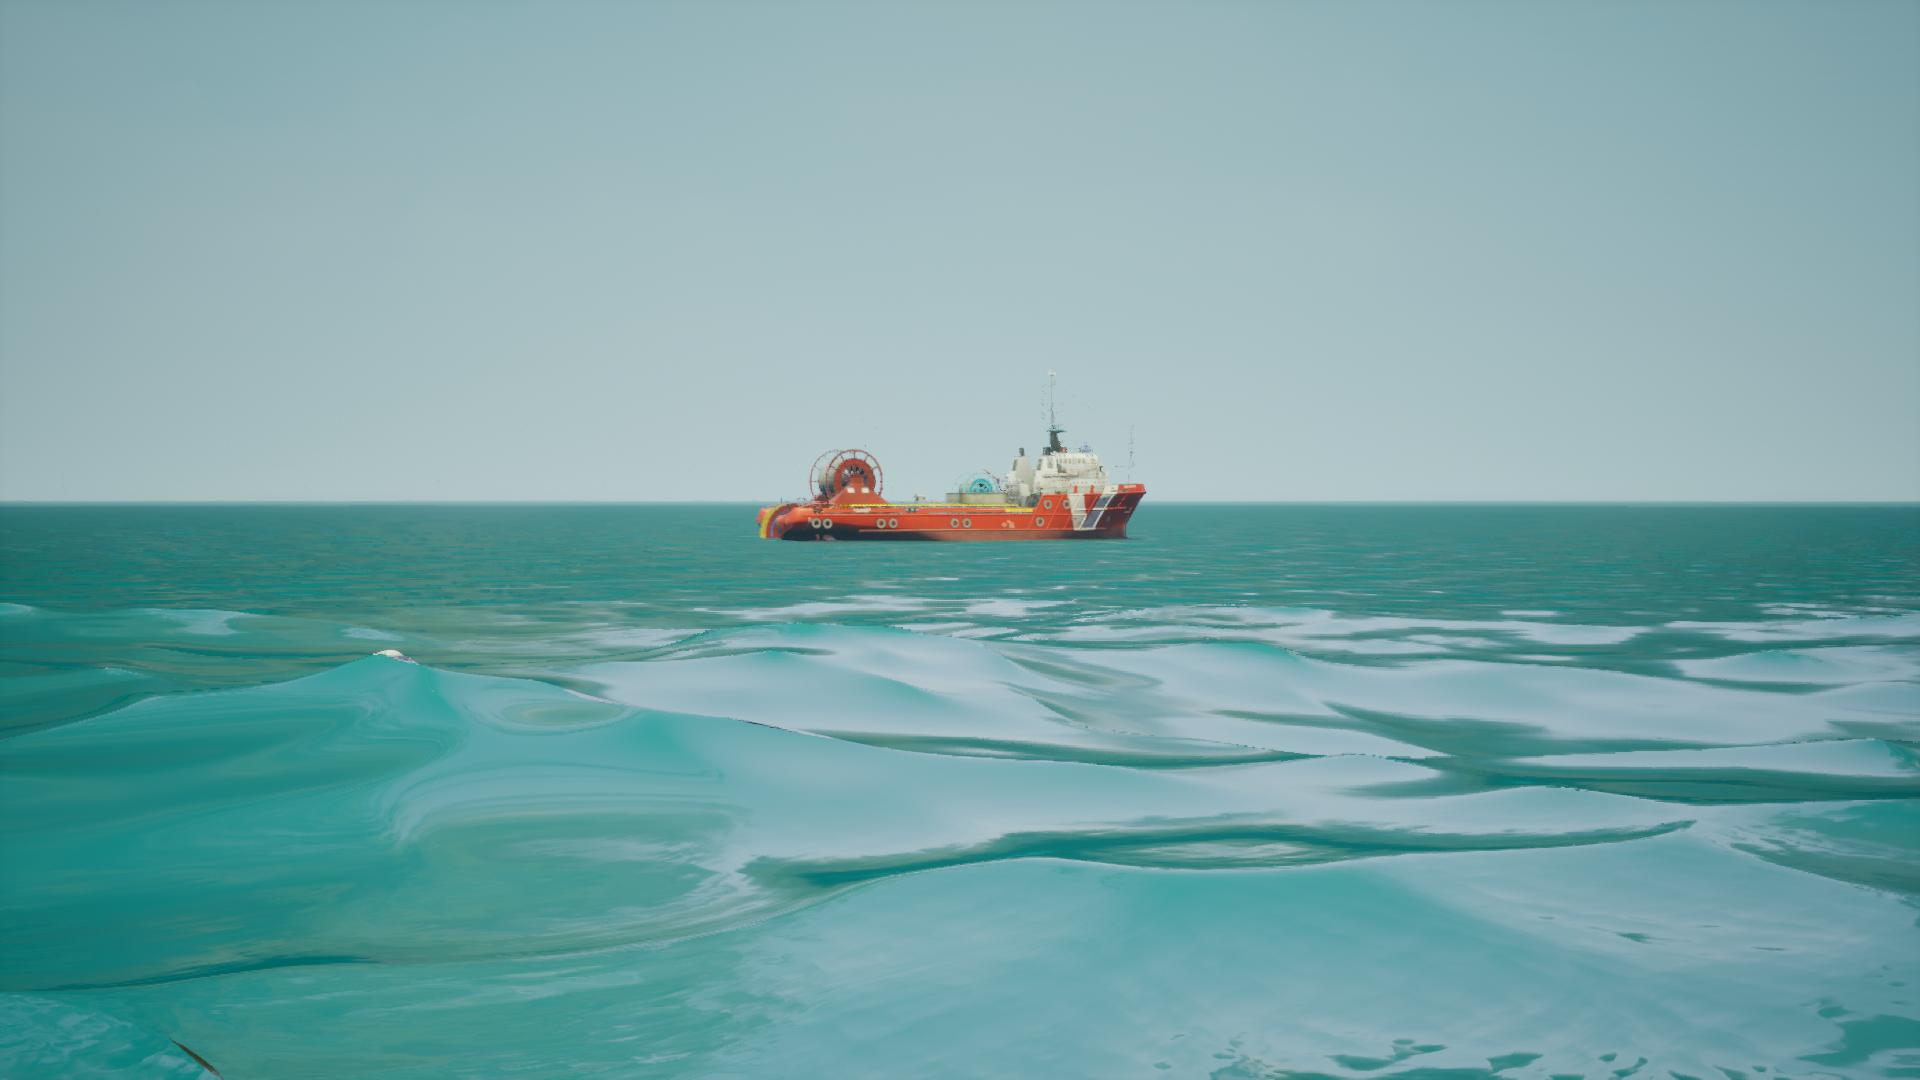Tug Boat: (758, 375, 1146, 546)
